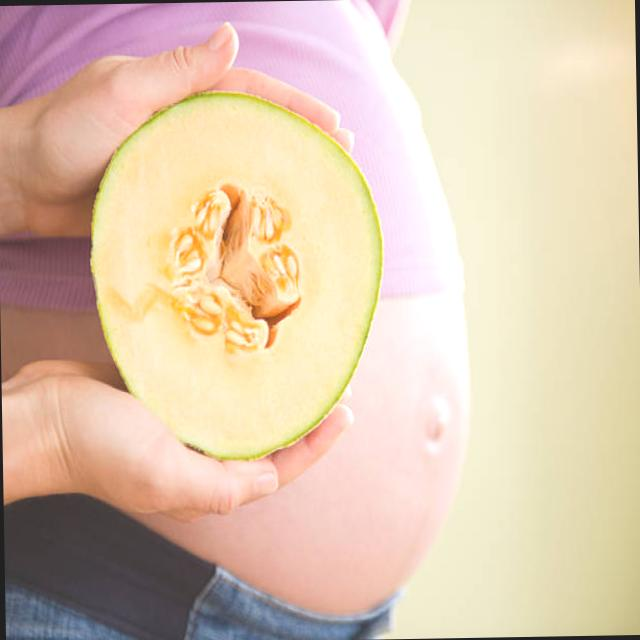cantaloupe: (90, 90, 388, 465)
